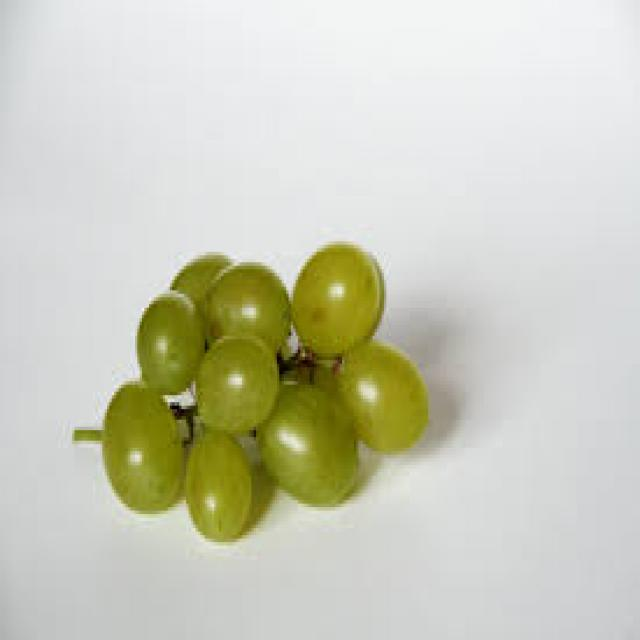organic waste: (254, 374, 358, 504), (289, 238, 384, 357), (100, 378, 184, 510), (330, 336, 426, 451), (191, 329, 279, 437), (200, 259, 289, 357), (184, 427, 251, 542), (135, 287, 205, 395), (168, 252, 228, 322)
